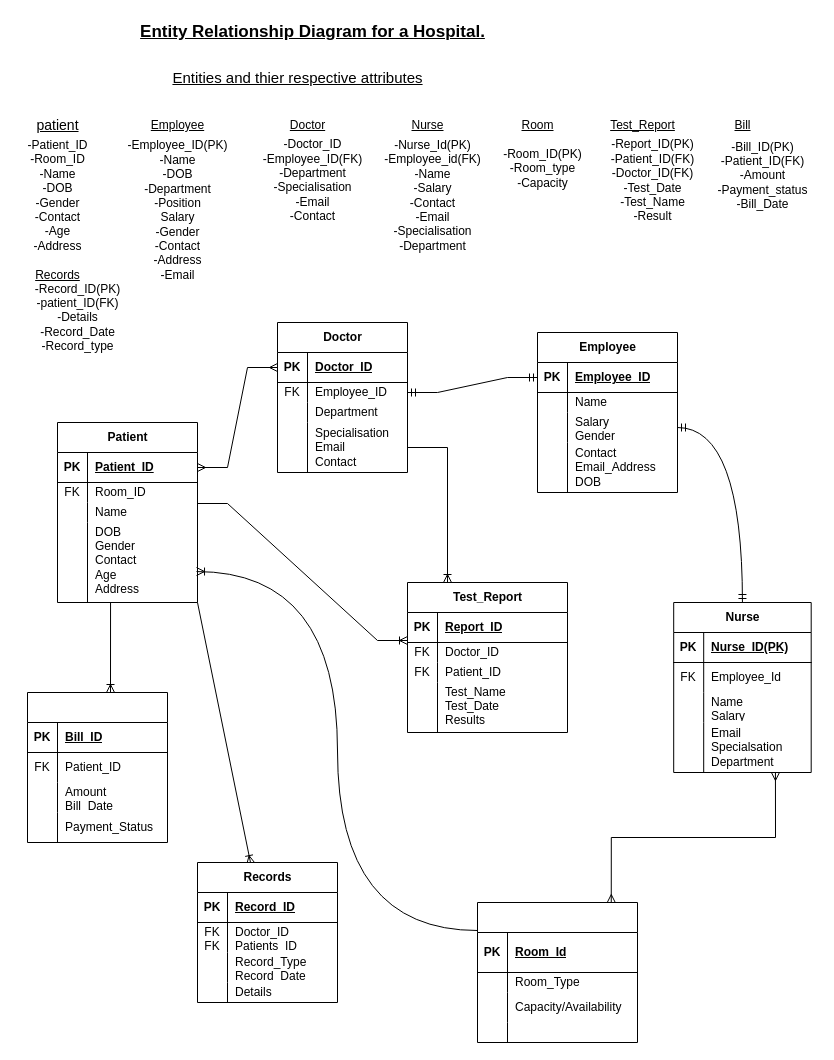
Image size: 834x1060. Some labels were removed from this diagram. The box of each missing label's shape, as (x1, y1, x2, y2) in pixels:
Bills: (26, 692, 168, 842)
Rooms: (476, 902, 638, 1042)
